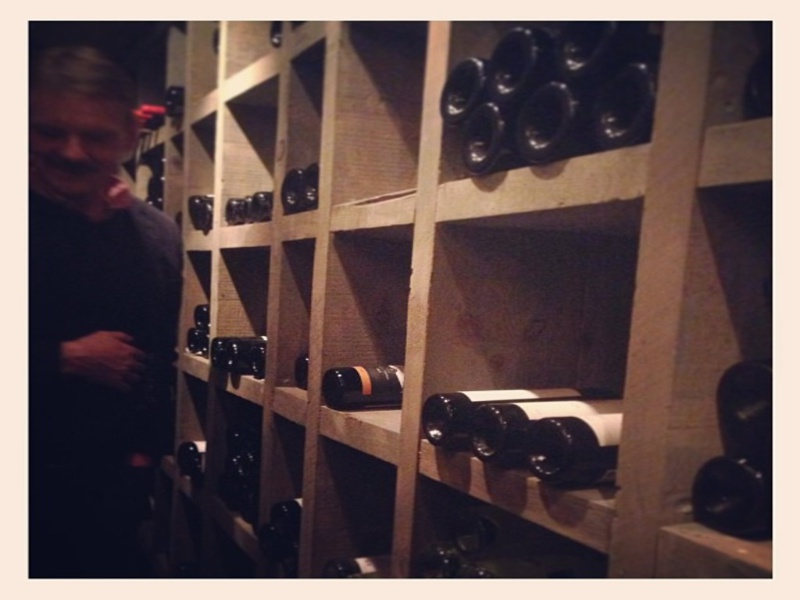wine: (437, 25, 669, 179), (138, 75, 321, 227), (421, 365, 628, 492), (173, 388, 309, 564), (681, 347, 777, 554), (288, 343, 406, 417), (207, 318, 271, 381)
